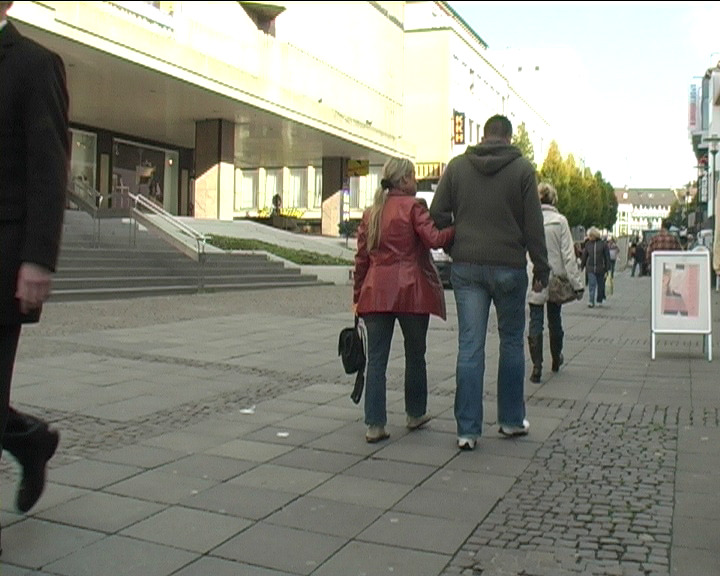deflection: (355, 146, 440, 249)
